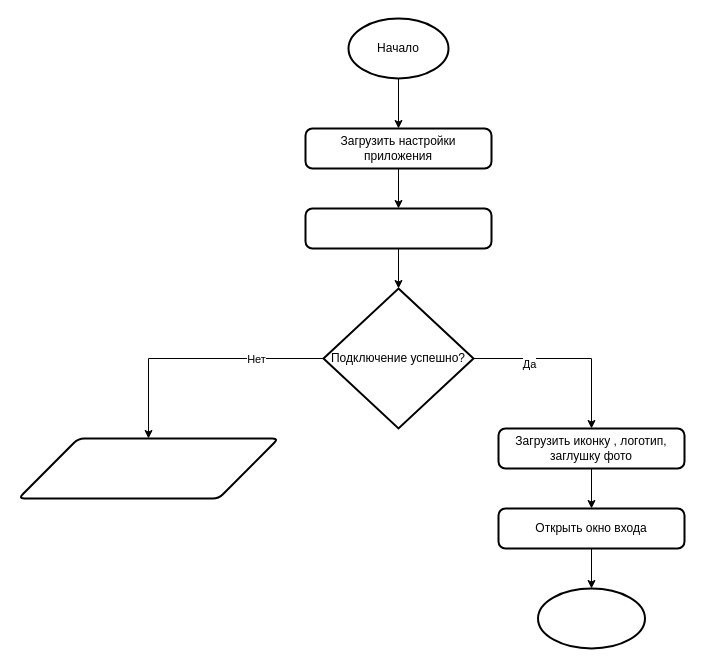
The diagram is 702 pixels wide and 666 high, and some of its shapes have lost their labels. The shapes that lost their labels are listed below. From the top down, each one's box as (x1, y1, x2, y2) in pixels, then its label:
(304, 207, 492, 249): Открыть подключение к БД
(17, 437, 279, 499): Сообщение : проверите подключение к БД
(536, 587, 646, 649): Ожидание действий пользователя
